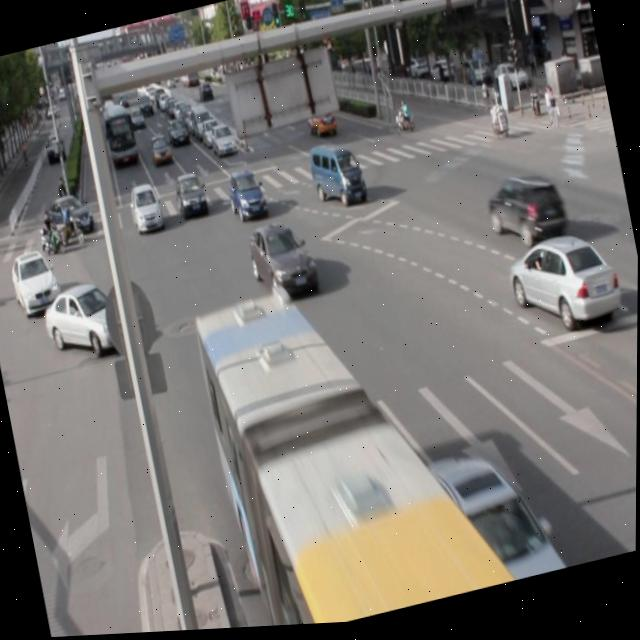car: (421, 436, 568, 603), (503, 228, 624, 343), (39, 274, 132, 364), (481, 169, 569, 257), (245, 218, 320, 307), (226, 168, 269, 226), (172, 170, 210, 222), (128, 181, 165, 233)
truck: (306, 138, 368, 215)
van: (194, 252, 519, 632)
